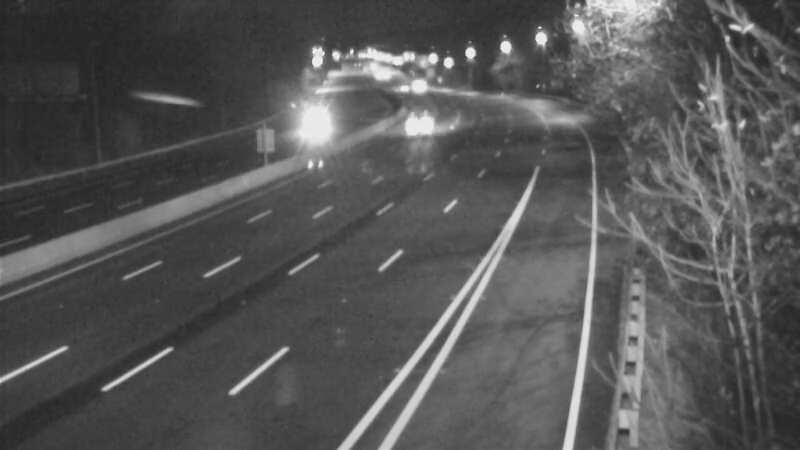vehicle: (393, 62, 443, 112), (378, 62, 428, 112), (386, 104, 436, 154), (292, 93, 342, 143)
